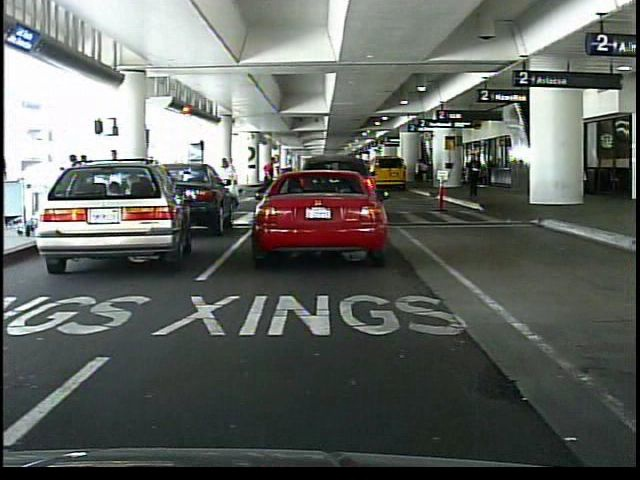person: (104, 146, 126, 218), (219, 157, 241, 212), (258, 153, 280, 199), (464, 155, 483, 200), (414, 155, 427, 190)
